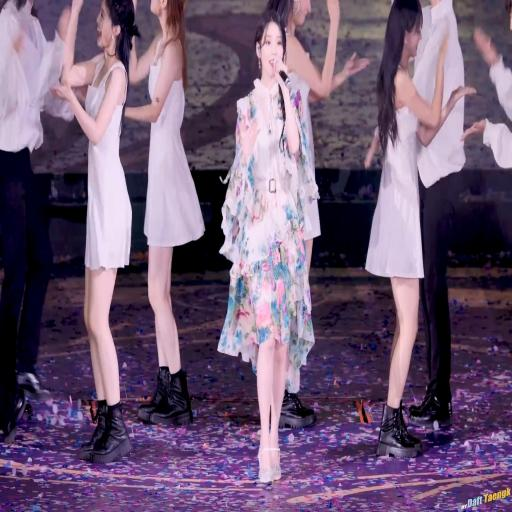IU: (254, 10, 287, 80)
